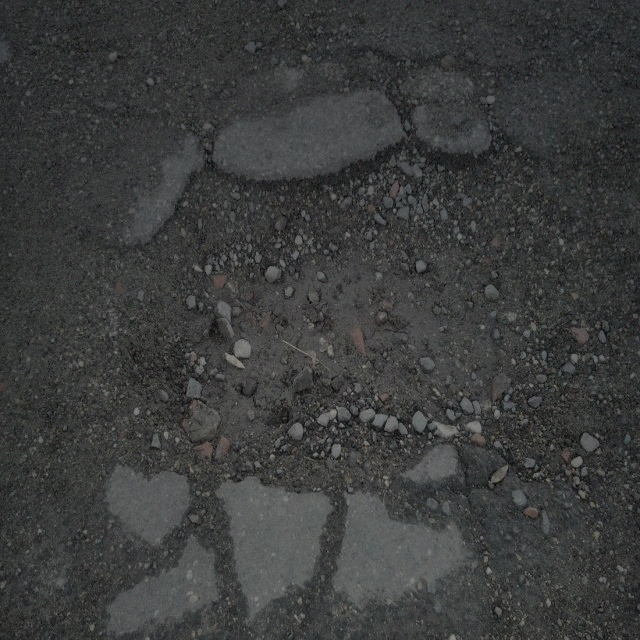pothole: (110, 132, 552, 536)
